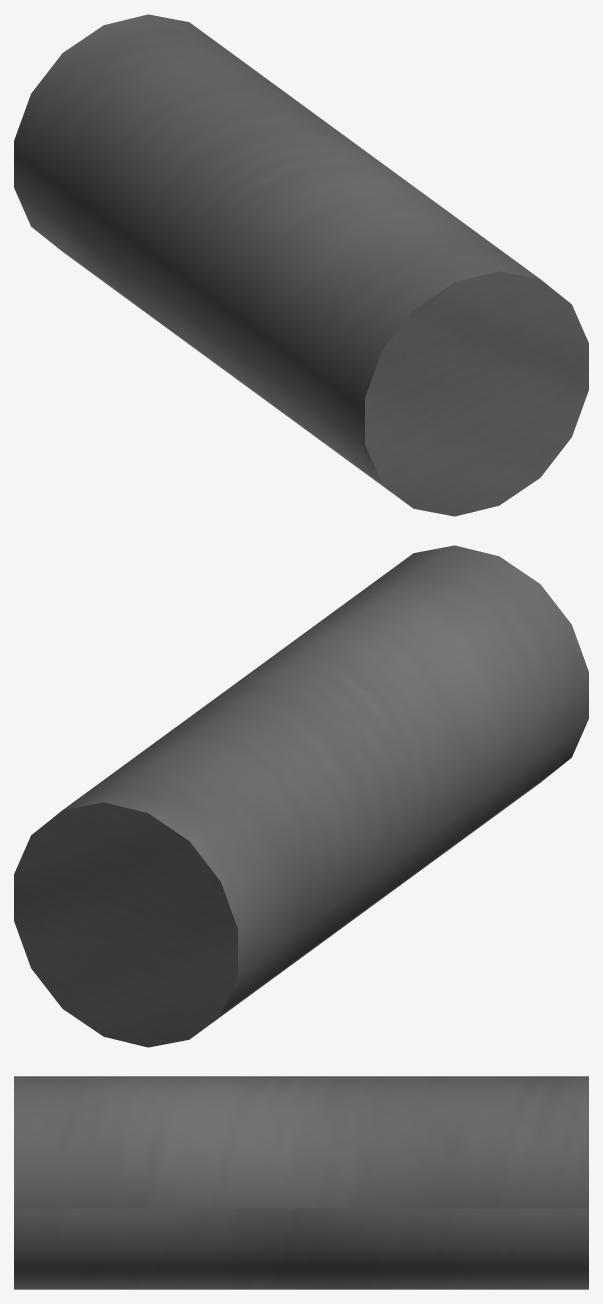
Rendered from pedestalpole_shaft.obj.
The picture shows the model from 3 angles, top to bottom: view 1: azimuth 30°, elevation 25°; view 2: azimuth 150°, elevation 25°; view 3: azimuth 270°, elevation 25°; orthographic projection. The views are drawn at different scales.
Parts seen in each view (by area): view 1: pedestalpole_shaft; view 2: pedestalpole_shaft; view 3: pedestalpole_shaft.
Part boxes in pixels (x1,y1,x2,y2): pedestalpole_shaft: (14,14,588,516); pedestalpole_shaft: (14,545,588,1047); pedestalpole_shaft: (14,1076,588,1289).
Bounding box in the file's own units: 0.3678 × 0.3678 × 0.9987.
